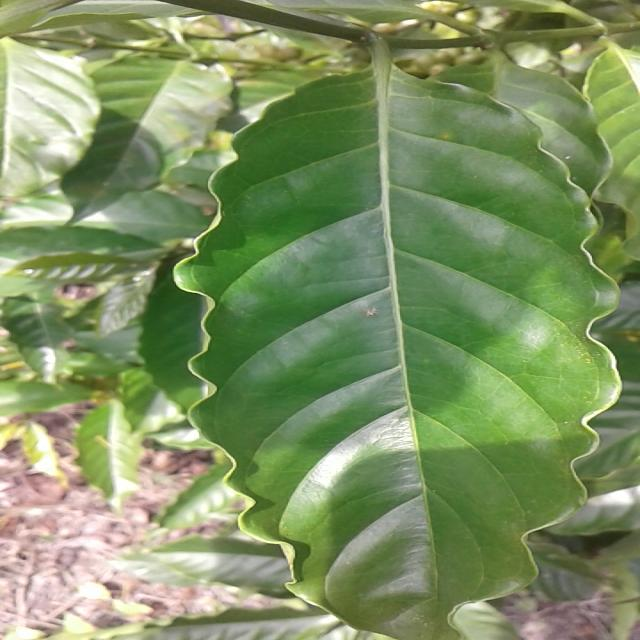Enfermedad-Roya: (173, 68, 640, 640)
